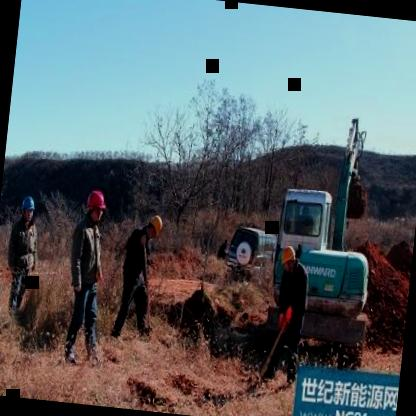helmet: (12, 188, 40, 228), (83, 186, 107, 223), (140, 214, 164, 245), (279, 245, 301, 276)
